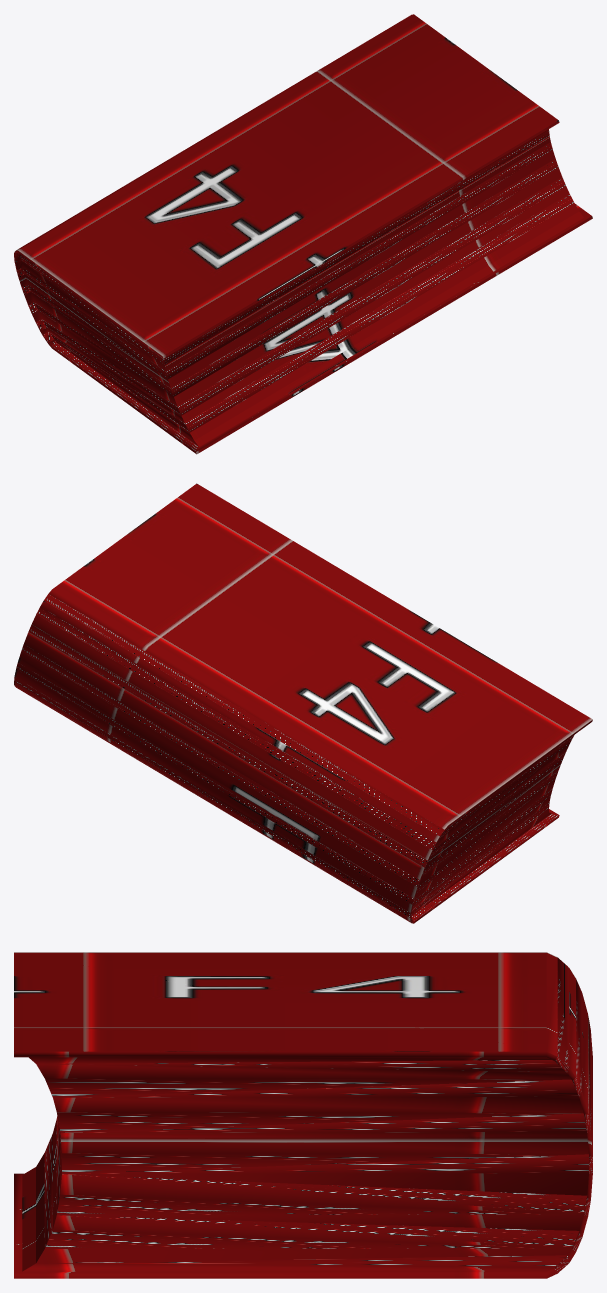
File: KnjigaFour.fbx
3 views of the same model, one above another, from view 1: azimuth 30°, elevation 25°; view 2: azimuth 150°, elevation 25°; view 3: azimuth 270°, elevation 25° (orthographic). The views are drawn at different scales.
Parts seen in each view (by area): view 1: book; view 2: book; view 3: book.
Part boxes in pixels (box(x1,y1,x2,y2)): book: box(14, 14, 592, 454); book: box(14, 483, 592, 923); book: box(14, 952, 592, 1278).
Bounding box in the file's own units: 16.43 × 8.97 × 10.39.
Materials: 1 (1 with a texture image).
